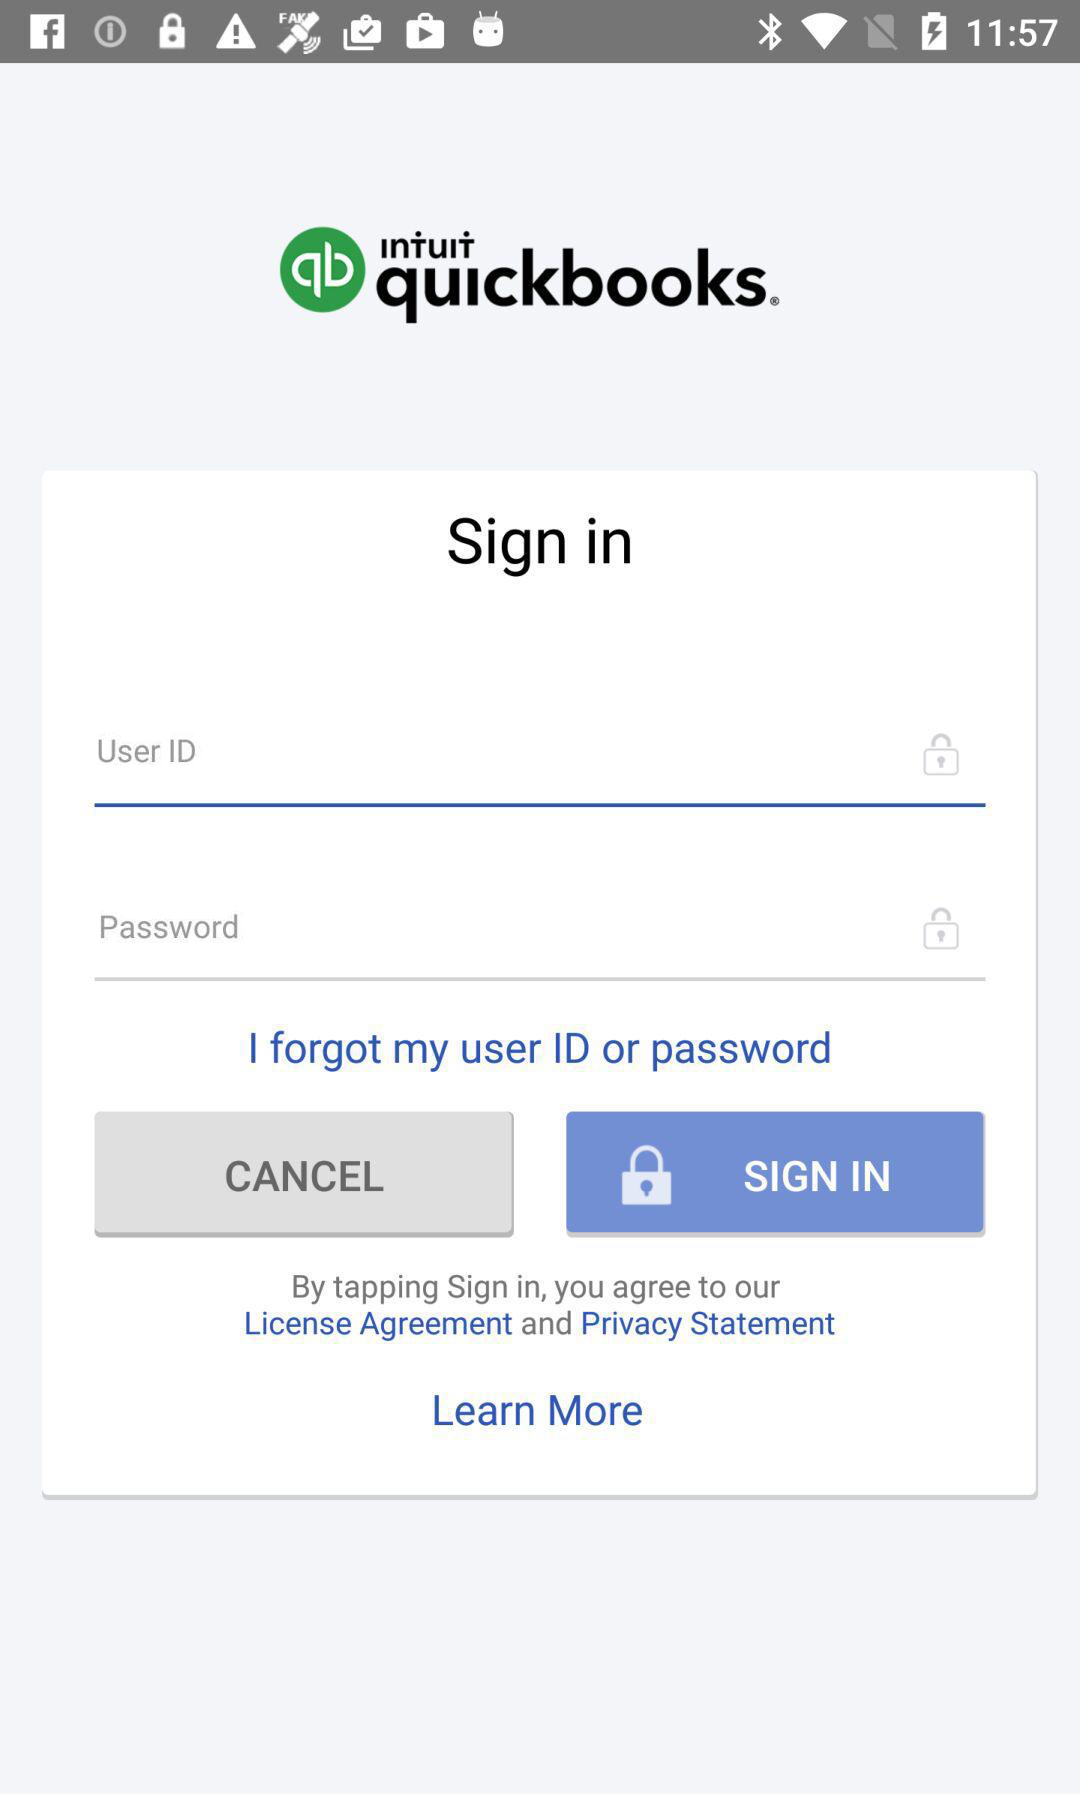Card: (41, 470, 1039, 1501)
EditText: (94, 732, 986, 809), (95, 906, 986, 982)
Icon: (922, 907, 960, 951), (922, 733, 960, 777)
Image: (281, 226, 781, 325)
Text: (245, 1274, 837, 1343), (251, 1029, 831, 1073), (447, 516, 632, 579), (434, 1394, 643, 1428), (101, 914, 240, 941), (99, 738, 197, 764)
TextButton: (95, 1111, 515, 1239), (566, 1111, 986, 1238)
UpperTaskBar: (1, 1, 1080, 64)
